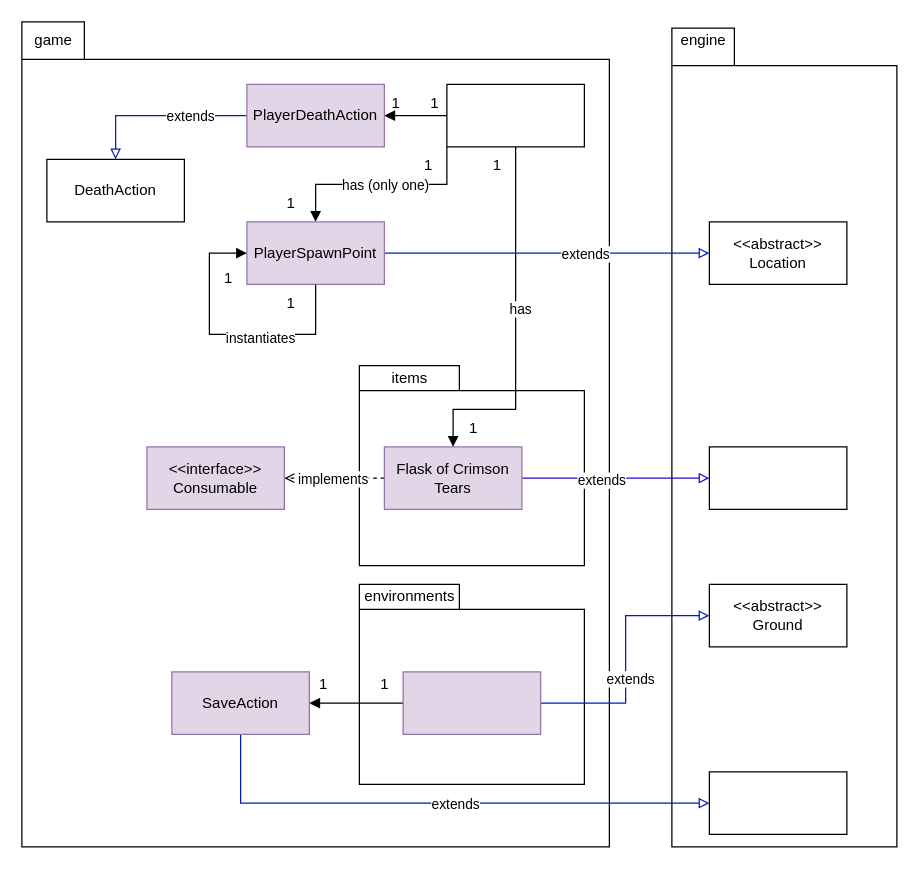
Some shapes in this 919 by 869 pixel diagram are drawn without their labels. The shapes that lost their labels are listed below. From the top down, each one's centre as x and y in pixels, then its label:
At [515,115]: "Player".
At [777,477]: "<<abstract>> Item".
At [471,702]: "Site of Lost Grace".
At [777,802]: "<<abstract>> Action".
